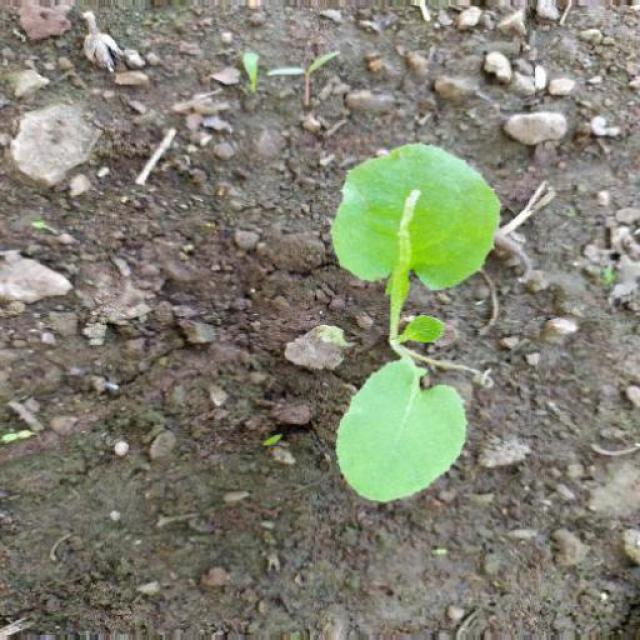weed: (329, 131, 505, 520)
